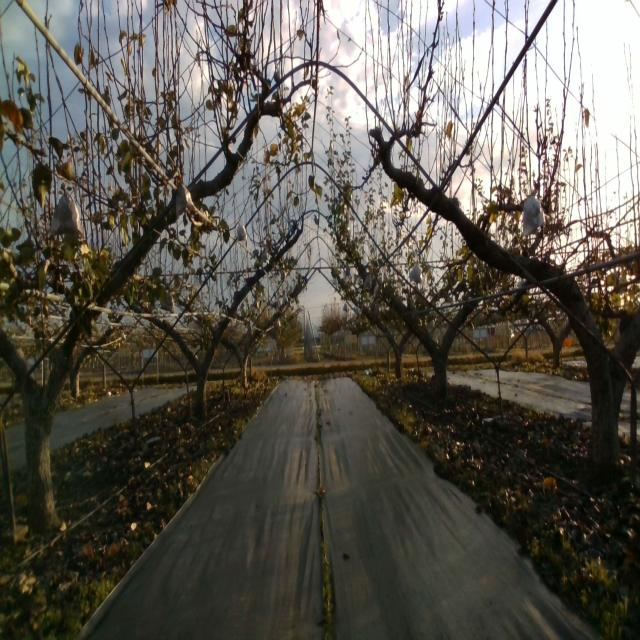pearbags: (50, 182, 83, 237), (522, 191, 546, 237), (176, 179, 195, 218), (408, 262, 421, 285)
